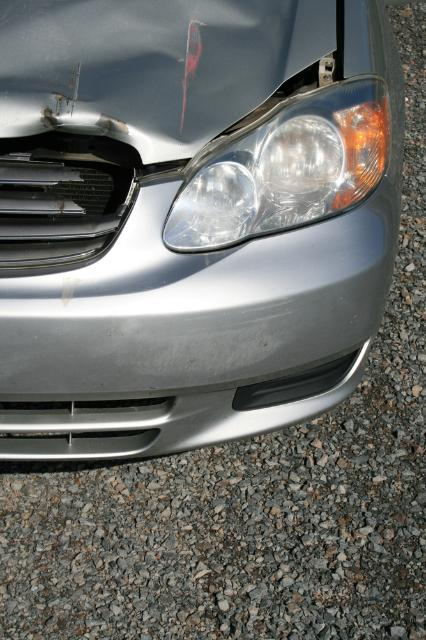dent: (0, 0, 279, 154)
scratch: (94, 299, 297, 378)
